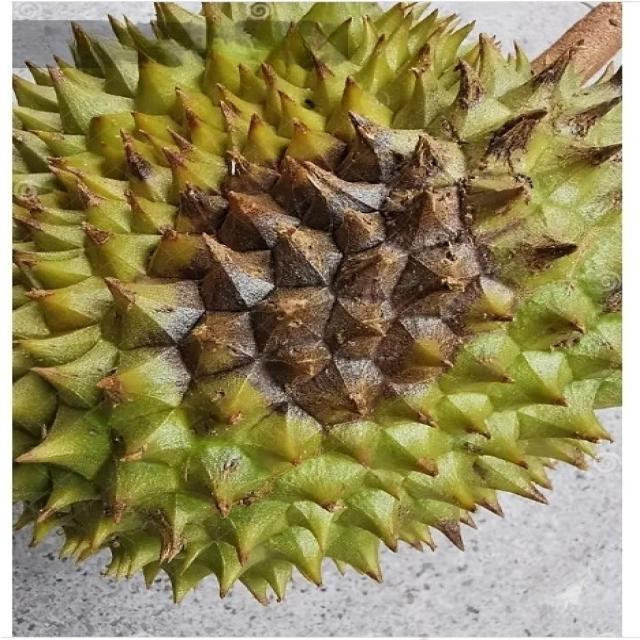defective: (10, 5, 623, 574)
